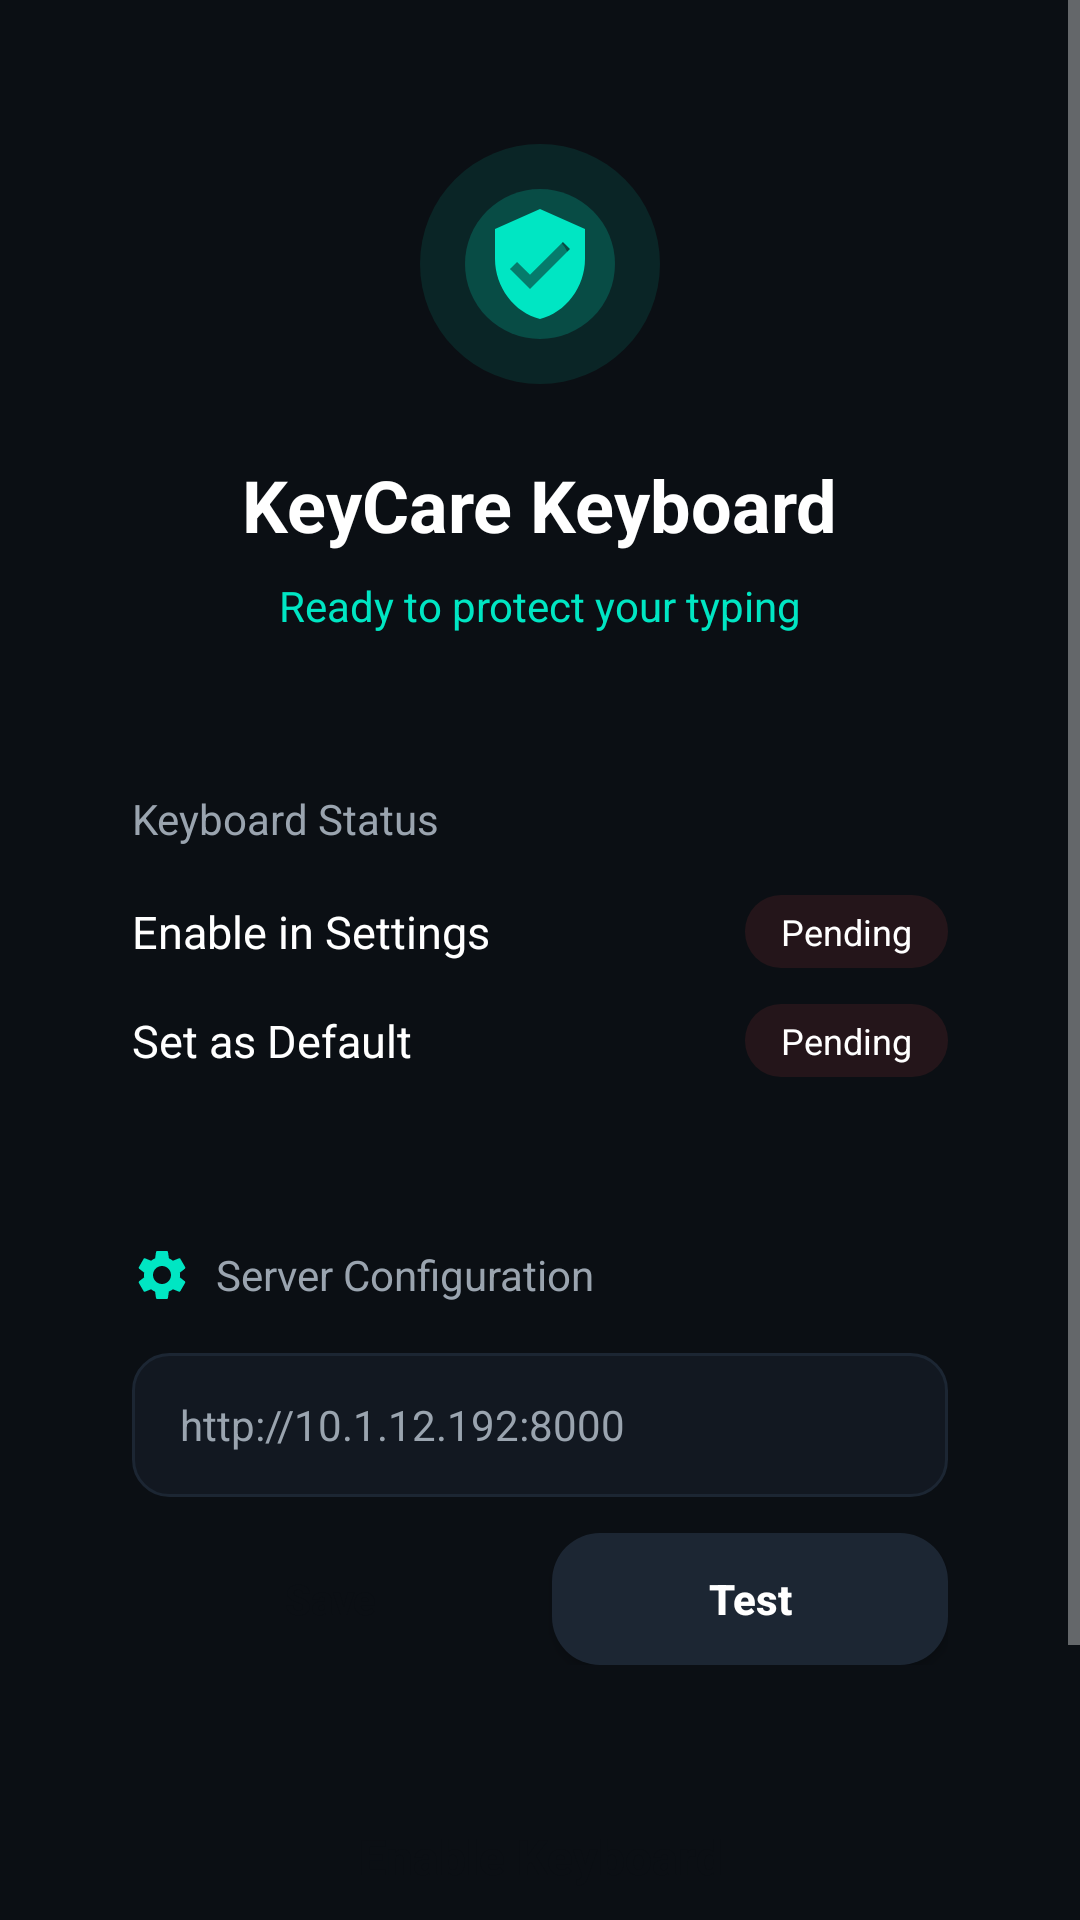

Screen size 1080px×1920px. Icon name, then its center in pixels as (x=x, y=y):
shield: (x=540, y=264)
